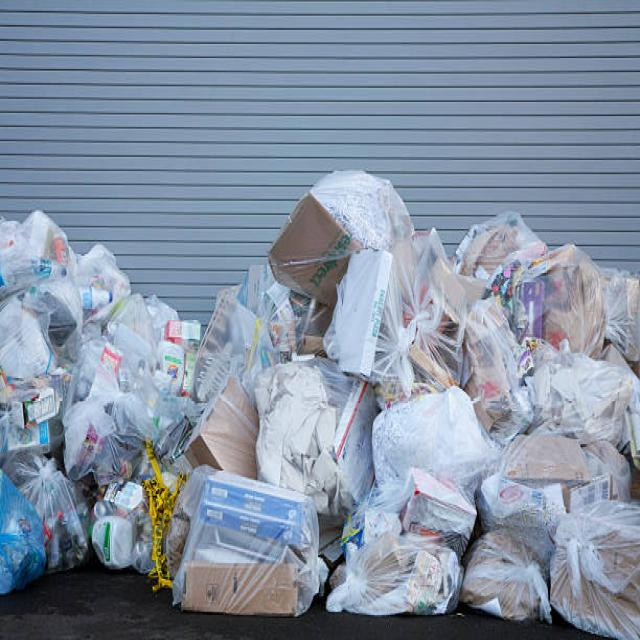trash: (20, 212, 633, 613)
